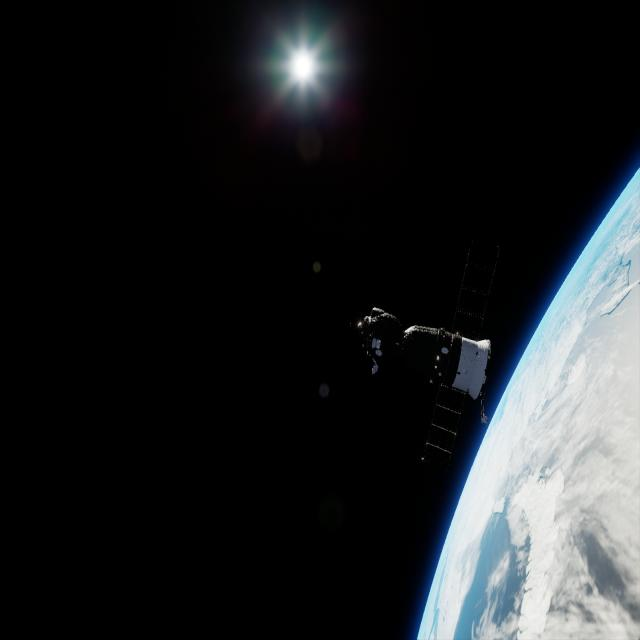Satellites revolving around earth: (416, 164, 638, 638)
